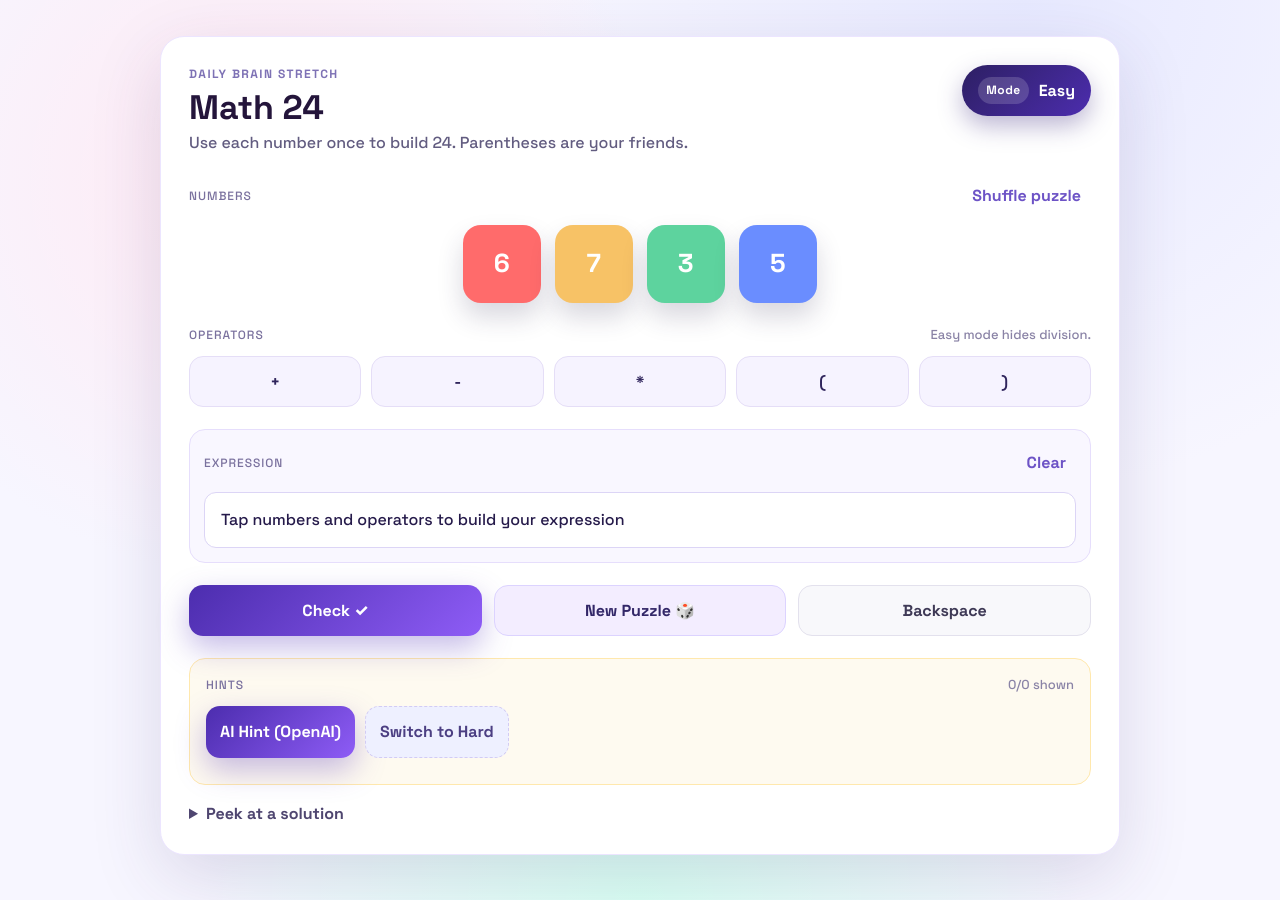
Math24Game › Expression Actions › clears the expression when Clear is clicked
Click the button "6". click: (502, 264)
box: 463,225 -> 541,303
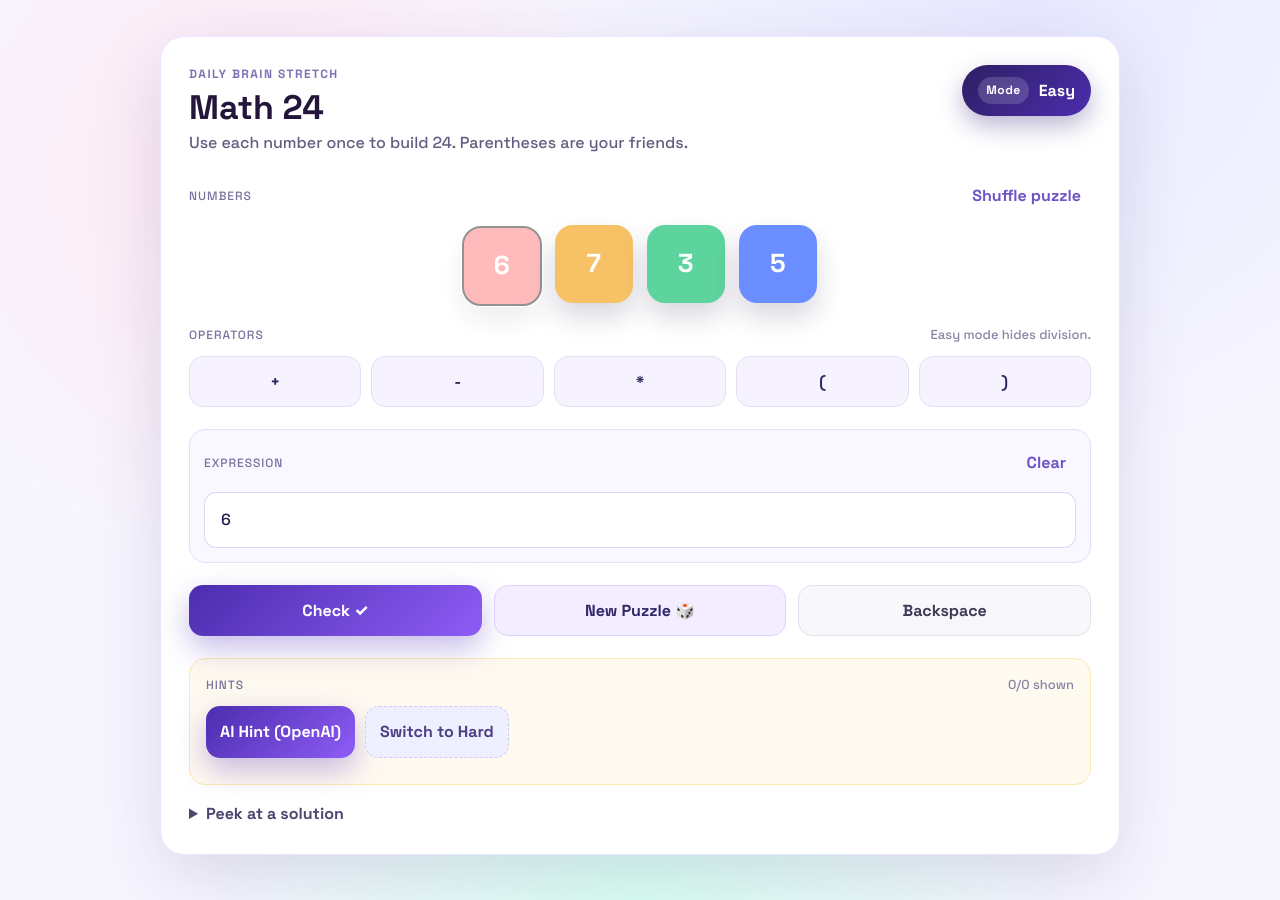
Click the button "Clear". click: (1046, 463)
box: 1017,444 -> 1076,482
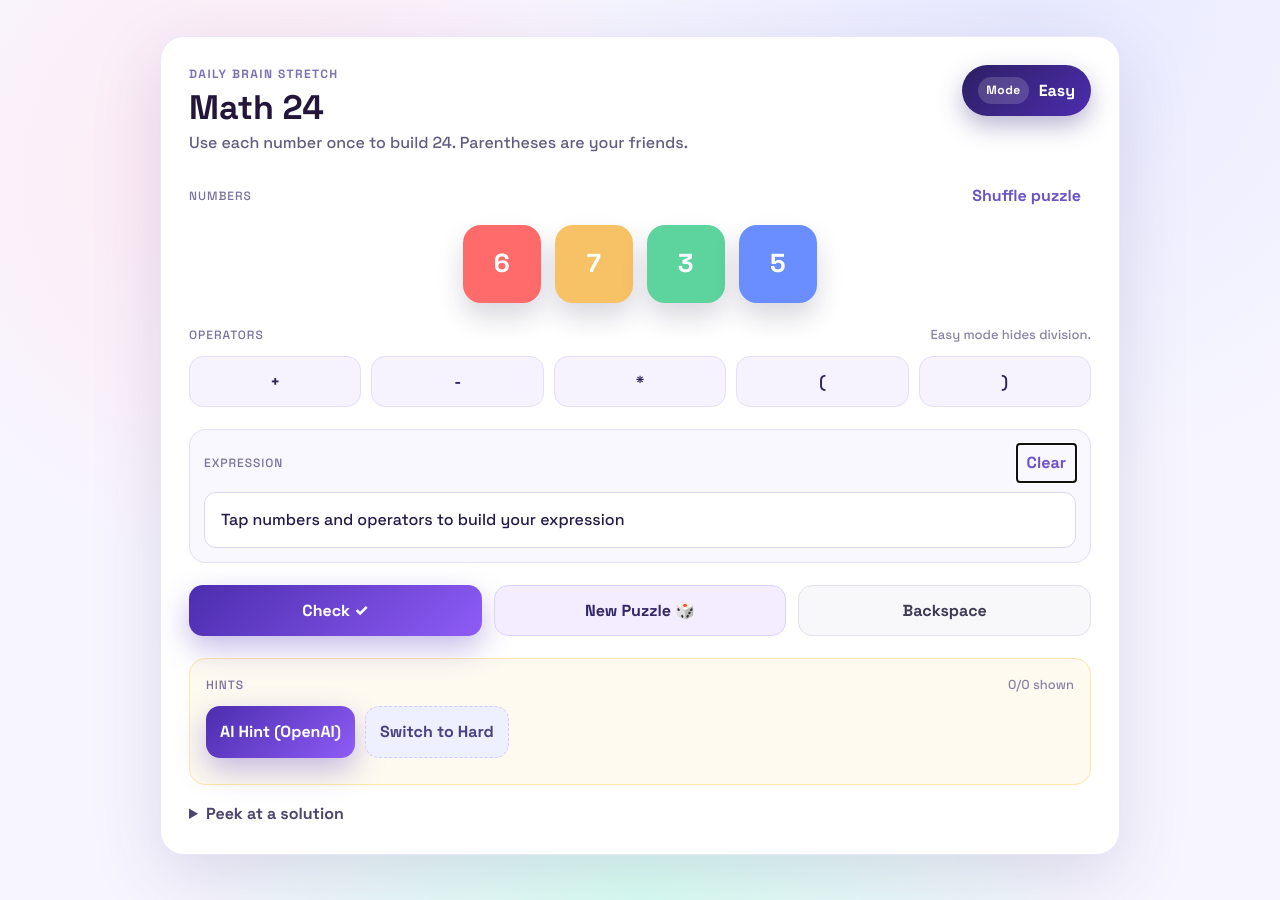
Expected: the text "Tap numbers and operators to build your expression" is shown, 204,492 -> 1076,548
